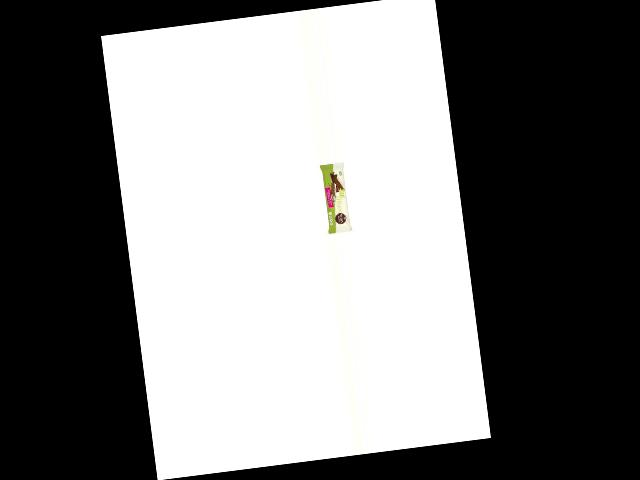chocolate: (316, 160, 354, 234)
